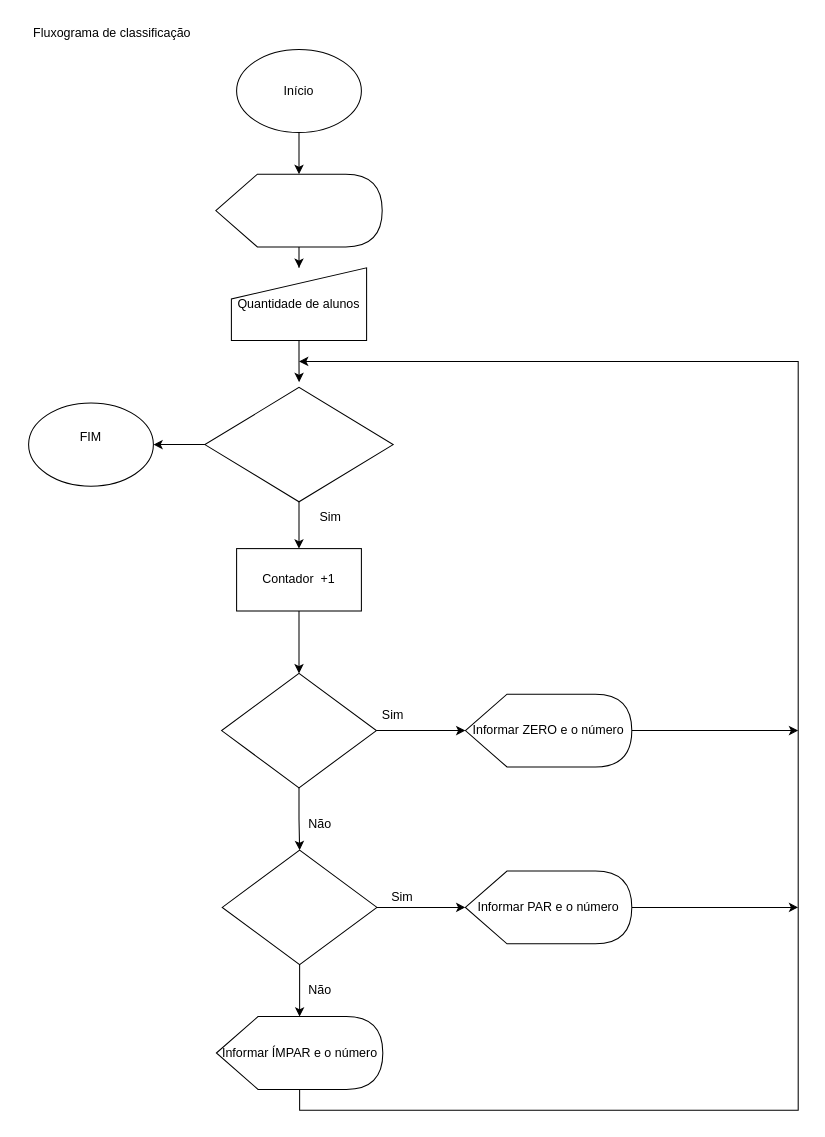
The diagram is 825 pixels wide and 1137 high, and some of its shapes have lost their labels. Each missing label, with the centre of its shape:
"(contador % 2) =0" goes at point 299,907.
"(contador =0) <= qtd de alunos" goes at point 298,444.
"contador =0" goes at point 298,730.
"Informe a quantidade de alunos" goes at point 298,210.
